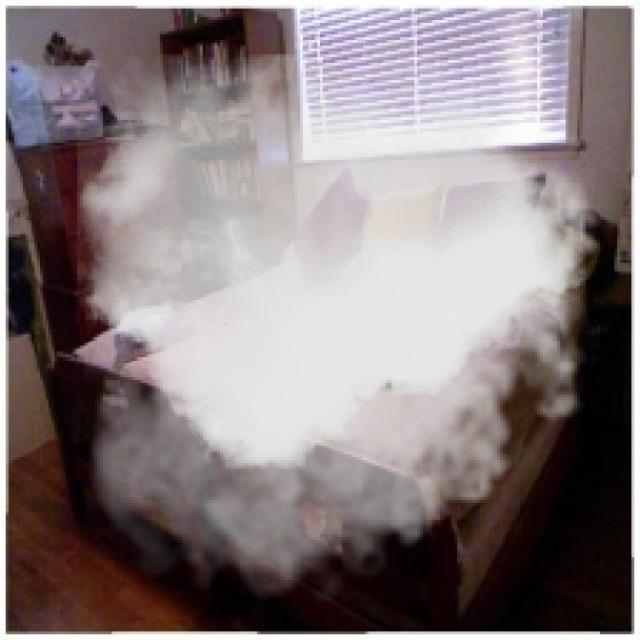Smoke: (77, 55, 617, 614)
